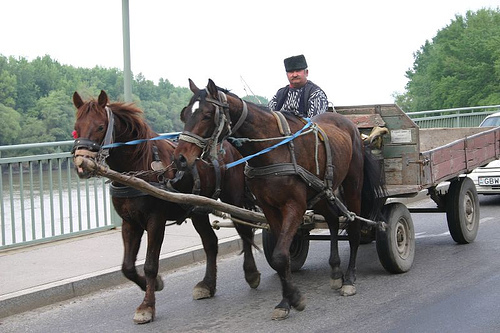horse: (170, 77, 386, 322), (71, 89, 264, 326)
